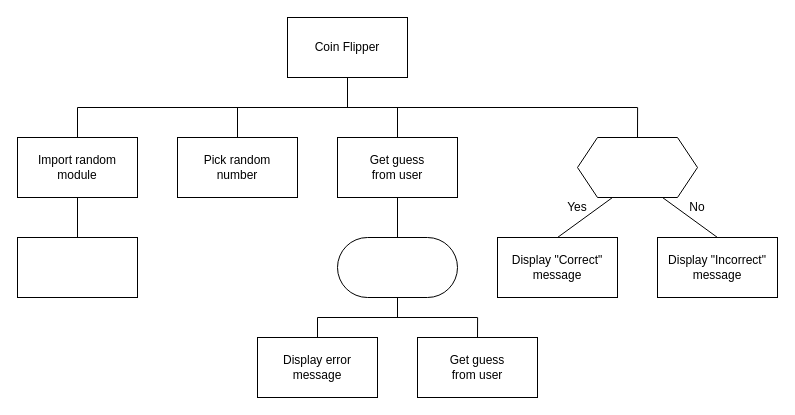
Image size: 795x415. Some labels were removed from this diagram. Here are the shapes that lost their labels. From the top down, the centre of each, then its label:
At (637,167): "Is guess correct?".
At (77,267): "Initialise variables".
At (397,267): "Repeat until user guess is 'h' or 't'".
